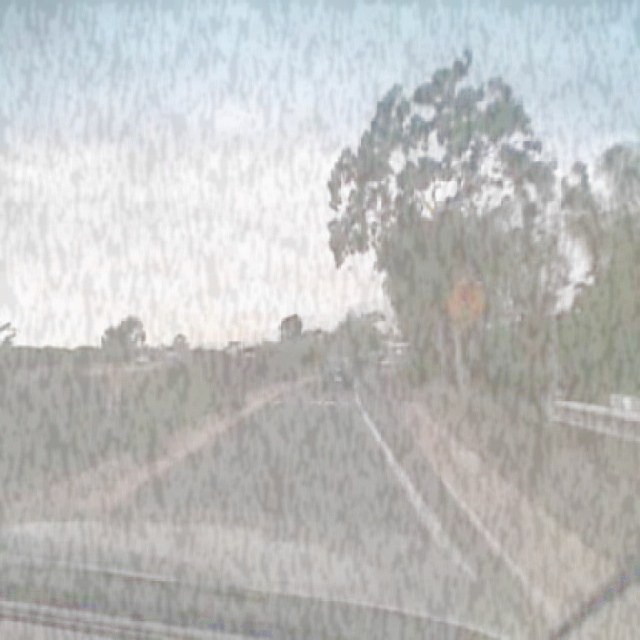signalAhead: (444, 272, 484, 330)
